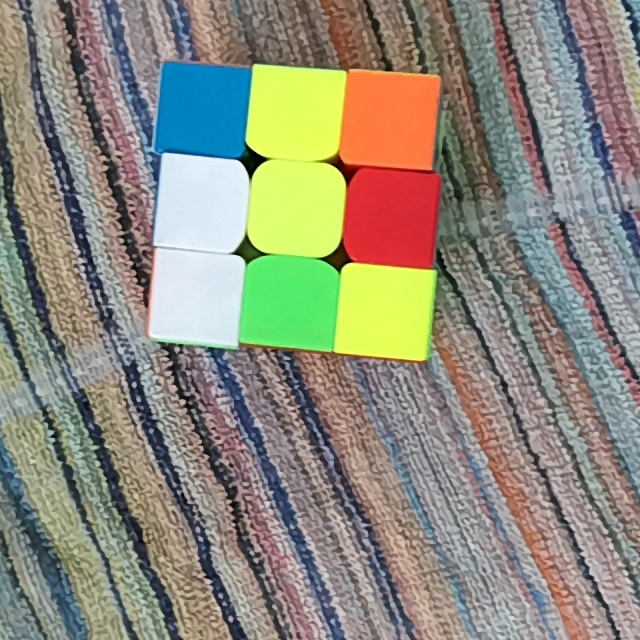tile: (352, 77, 425, 161), (260, 71, 334, 150), (163, 164, 237, 242), (166, 67, 239, 144), (261, 170, 332, 247), (359, 176, 428, 254), (159, 259, 232, 332), (348, 275, 423, 346), (253, 268, 329, 338)
